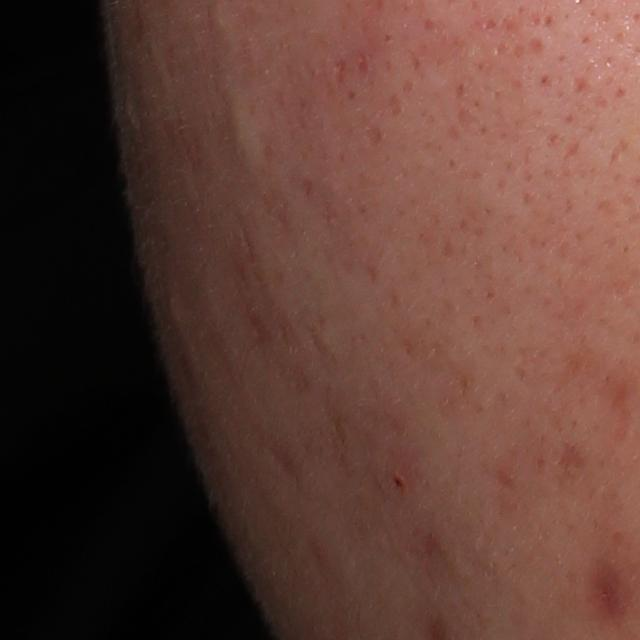hypertrophic_scar: (209, 67, 269, 186)
